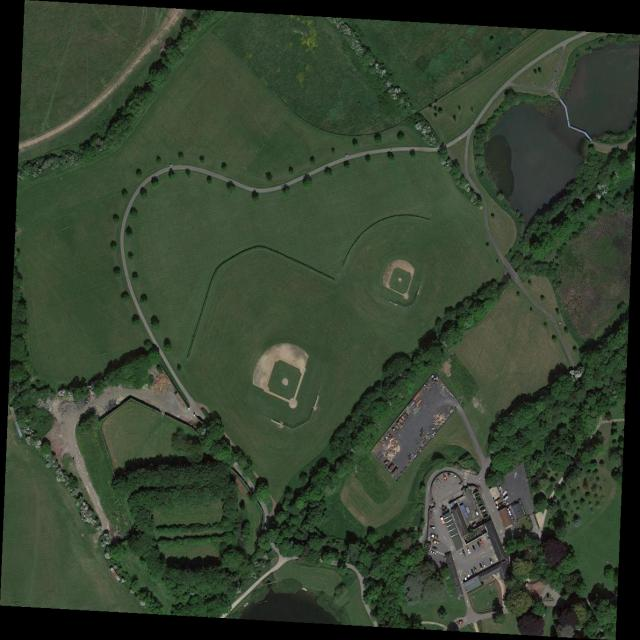large-vehicle: (440, 517, 446, 525)
small-vehicle: (489, 557, 494, 566), (431, 533, 438, 539), (433, 540, 440, 546), (467, 547, 472, 555), (479, 563, 484, 571), (476, 541, 481, 548), (472, 544, 477, 551), (462, 550, 467, 557), (442, 474, 447, 481), (470, 569, 475, 575), (463, 574, 467, 581), (474, 566, 478, 573), (467, 572, 471, 579), (432, 547, 438, 551), (480, 540, 484, 546)
